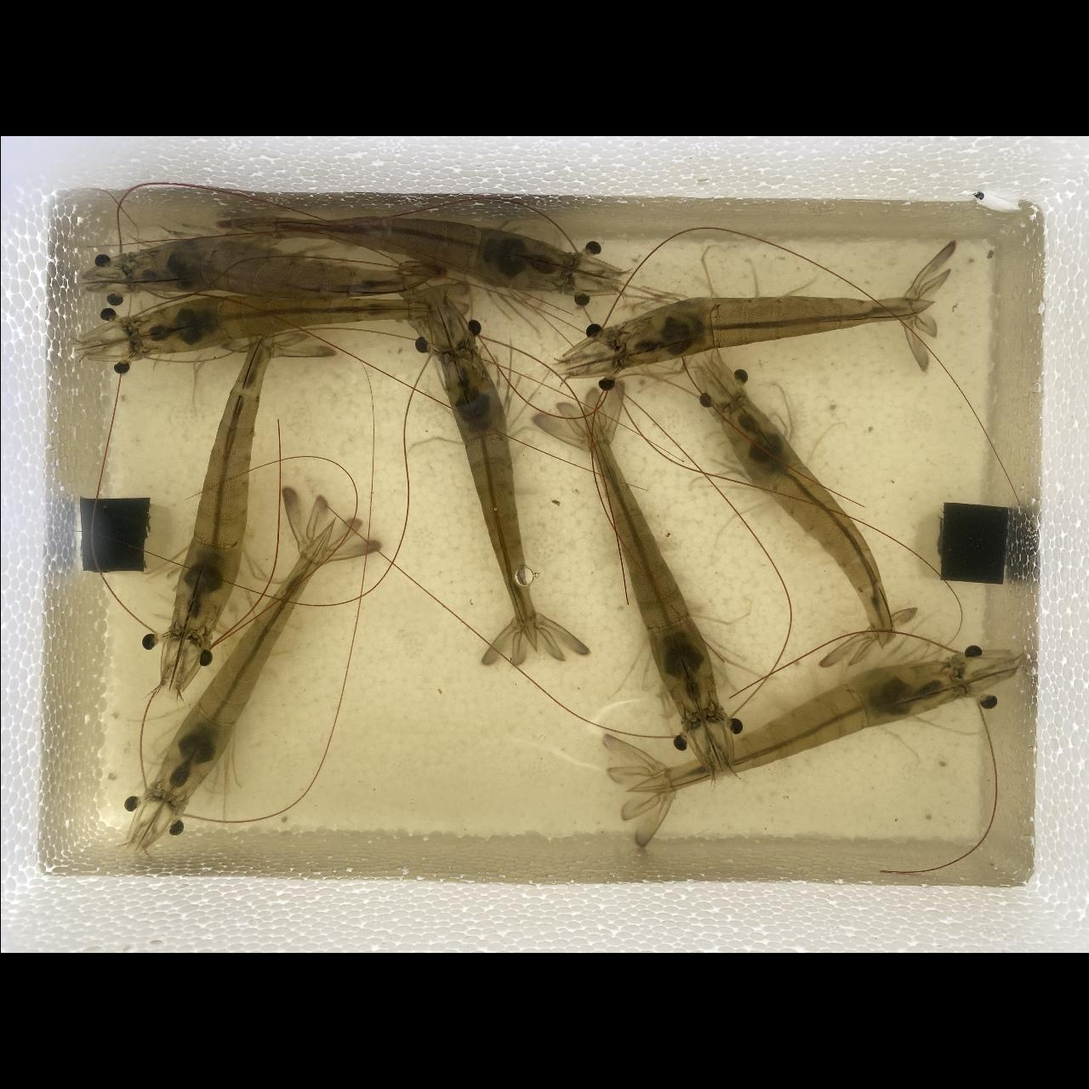box: (939, 503, 1008, 584), (102, 543, 110, 550)
top_shrimp: (155, 525, 335, 802), (720, 391, 895, 655), (626, 657, 956, 792), (585, 407, 717, 719), (171, 323, 276, 637), (439, 345, 536, 655), (207, 214, 569, 289), (606, 294, 934, 371), (124, 236, 451, 298), (129, 295, 468, 353)
